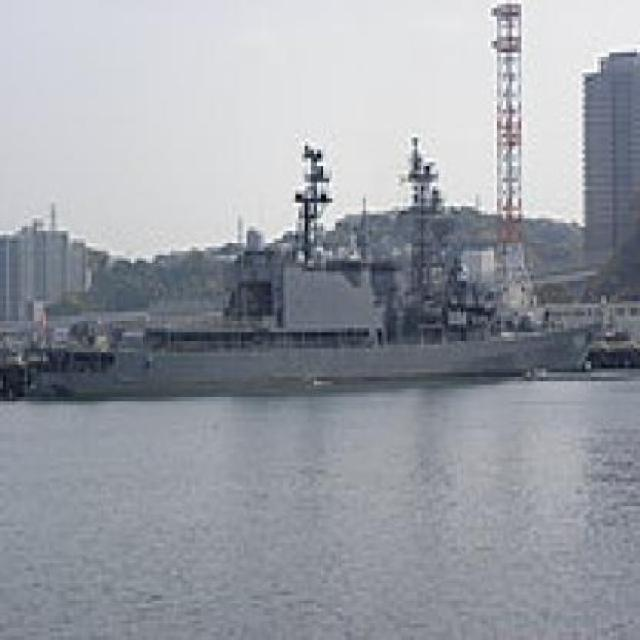warship2: (34, 127, 596, 427)
